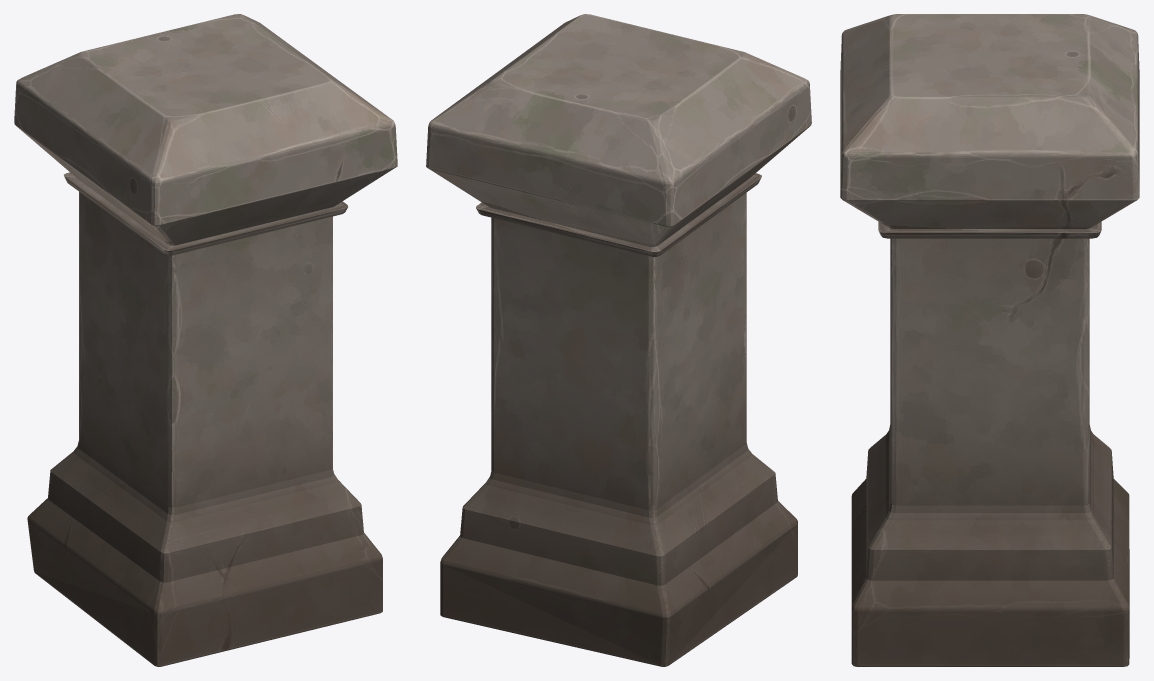
The model's file is stylized_pedestal.glb.
3 views of the same model, side by side, from view 1: azimuth 30°, elevation 25°; view 2: azimuth 150°, elevation 25°; view 3: azimuth 270°, elevation 25° (orthographic). The views are drawn at different scales.
Visible parts, largest first — view 1: LowPoly; view 2: LowPoly; view 3: LowPoly.
Part boxes in pixels (<box>): LowPoly: <box>14,14,397,666</box>; LowPoly: <box>426,14,811,666</box>; LowPoly: <box>840,14,1139,666</box>.
Bounding box in the file's own units: 2.18 × 4.45 × 2.18.
1 material, 1 textured.
